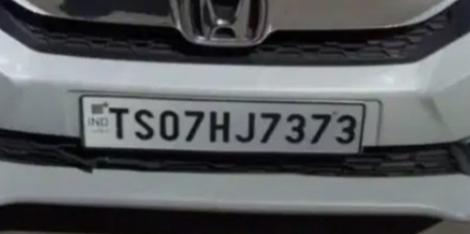0: (158, 104, 181, 147)
3: (334, 107, 359, 150), (283, 109, 308, 146)
7: (180, 102, 206, 147), (308, 109, 334, 149), (260, 108, 284, 149)
H: (208, 107, 232, 148)
J: (232, 107, 258, 147)
S: (130, 103, 157, 145)
T: (104, 100, 133, 145)
